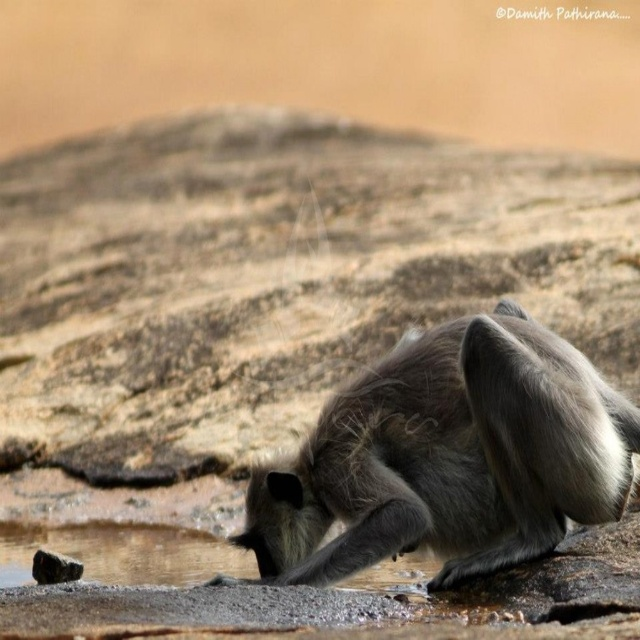Monkey: (203, 300, 623, 622)
